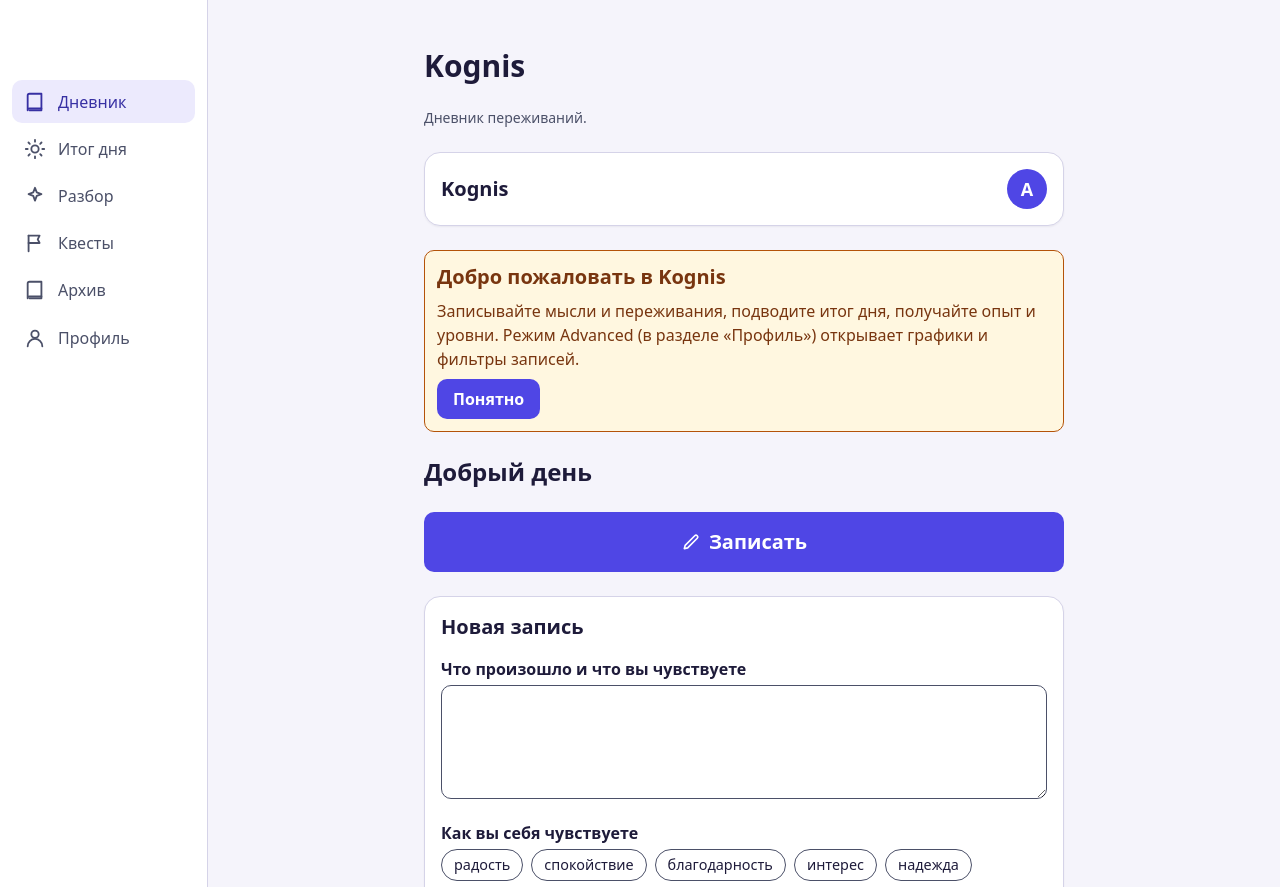
Test case: язык профиля включается после входа
What coordinates should you click on to do the following:
click the button with test id "user-menu"
I would click on:
 (1027, 189)
Its box is [1007,169,1047,209].
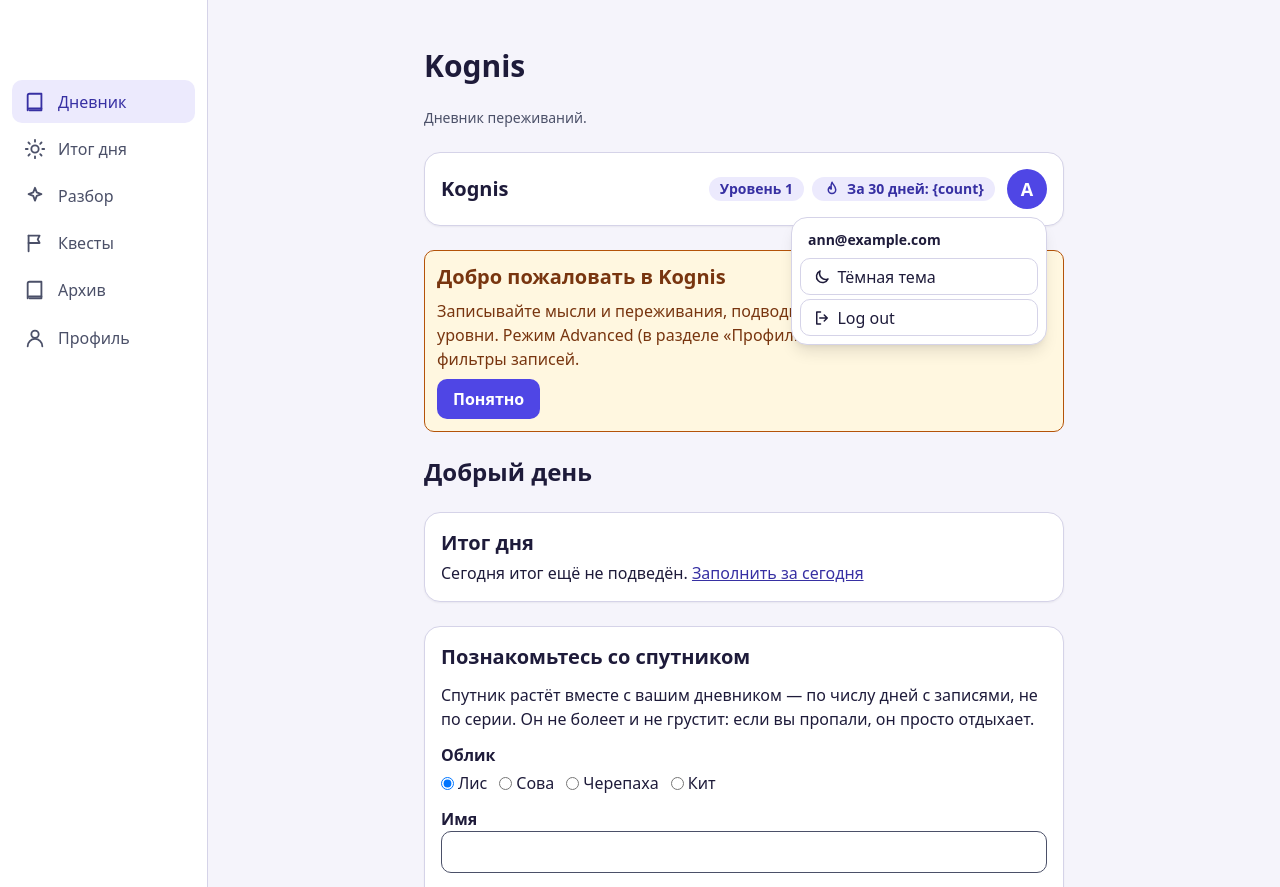
Expected: the button "Log out" is shown, [800,299,1038,336]
